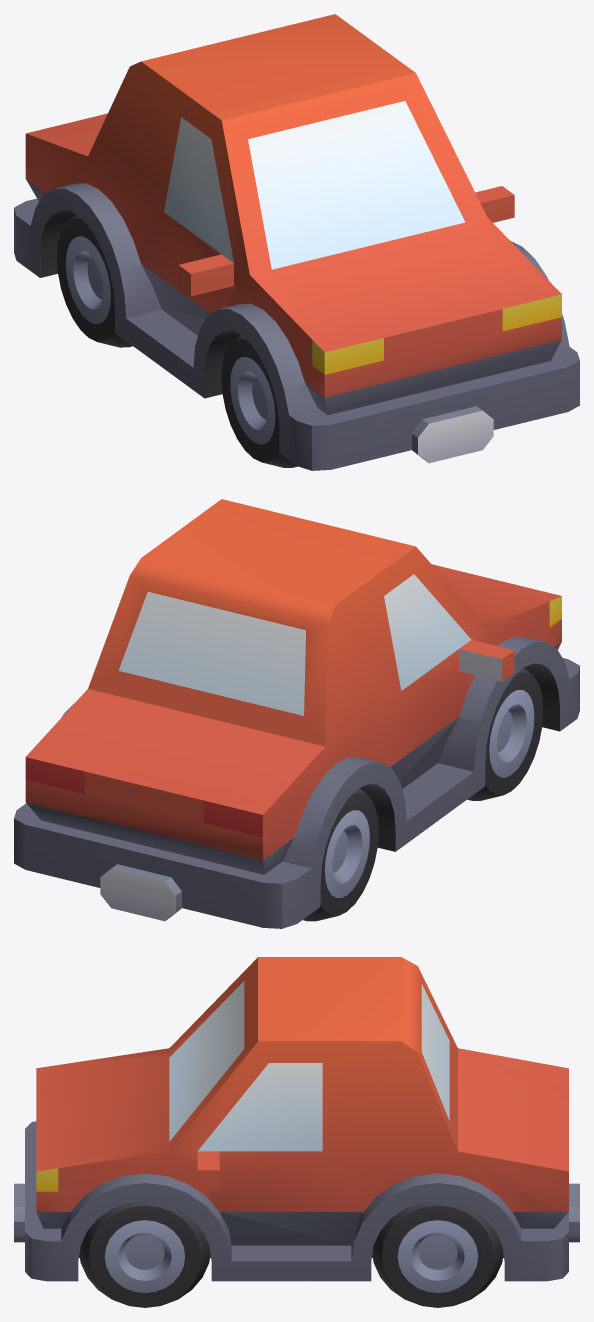
File: sedan.glb
The picture shows the model from 3 angles, top to bottom: view 1: azimuth 30°, elevation 25°; view 2: azimuth 150°, elevation 25°; view 3: azimuth 270°, elevation 25°; orthographic projection. The views are drawn at different scales.
Visible parts, largest first — view 1: body, wheel-front-right, wheel-back-right; view 2: body, wheel-back-right, wheel-front-right; view 3: body, wheel-front-left, wheel-back-left.
Part boxes in pixels (x1=…): body: x1=14, y1=14, x2=579, y2=470; wheel-front-right: x1=221, y1=335, x2=297, y2=467; wheel-back-right: x1=56, y1=214, x2=132, y2=347; body: x1=14, y1=499, x2=579, y2=928; wheel-back-right: x1=303, y1=788, x2=378, y2=921; wheel-front-right: x1=467, y1=668, x2=543, y2=800; body: x1=14, y1=957, x2=579, y2=1281; wheel-front-left: x1=79, y1=1201, x2=210, y2=1307; wheel-back-left: x1=372, y1=1201, x2=503, y2=1307.
Bounding box in the file's own units: 1.5 × 1.3 × 2.55.
5 materials, 5 textured.
